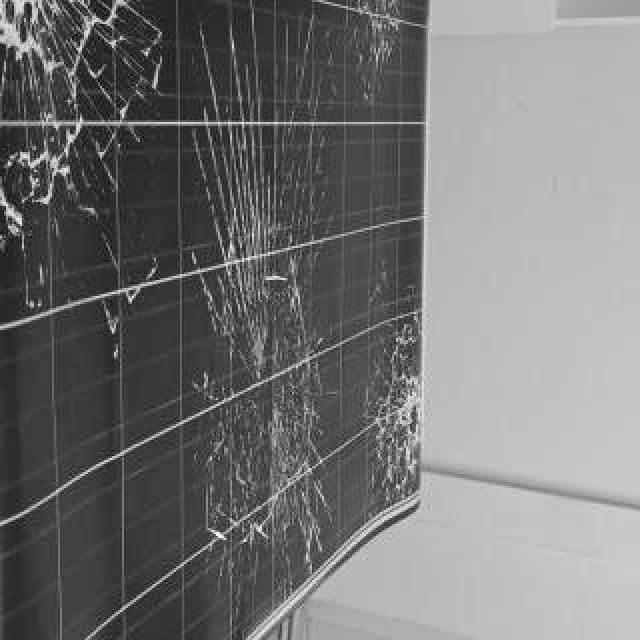Physical-damage: (11, 8, 153, 219), (208, 397, 331, 563), (188, 136, 339, 259), (202, 266, 328, 384), (374, 323, 408, 492), (339, 8, 403, 92)
